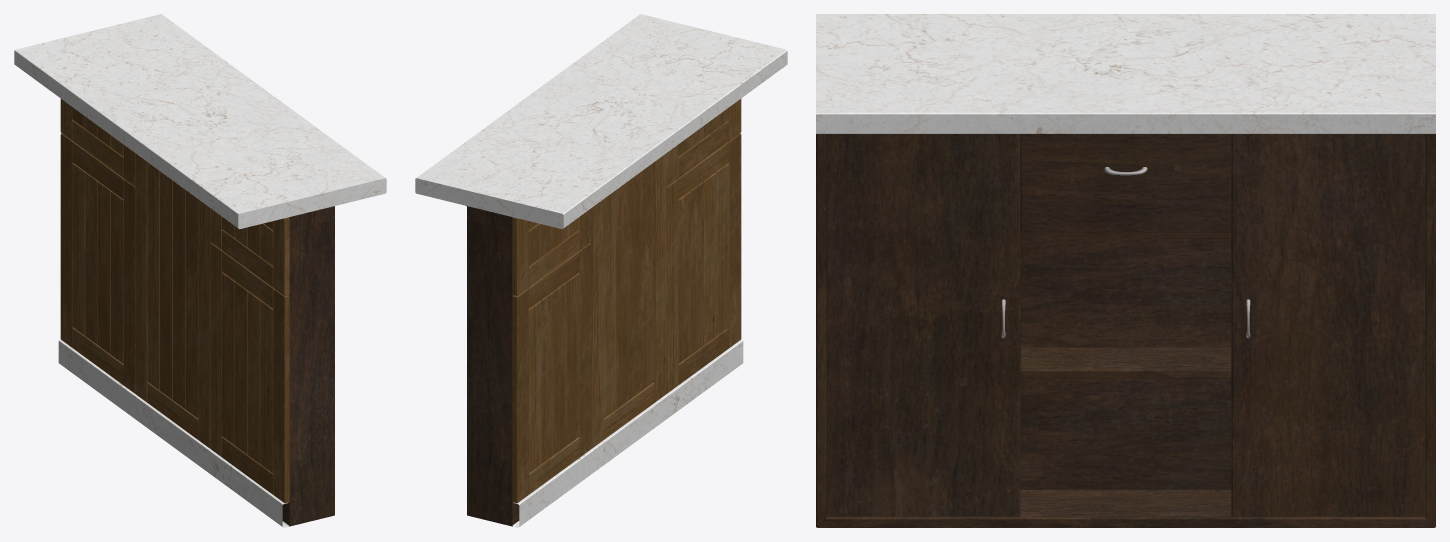
The model's file is SM_CounterTop_01_A.fbx.
The picture shows the model from 3 angles, left to right: view 1: azimuth 30°, elevation 25°; view 2: azimuth 150°, elevation 25°; view 3: azimuth 270°, elevation 25°; orthographic projection. The views are drawn at different scales.
Parts seen in each view (by area): view 1: SM_CounterTop_01_A_LOD0; view 2: SM_CounterTop_01_A_LOD0; view 3: SM_CounterTop_01_A_LOD0.
Boxes of the visible parts, box(x1,y1,x2,y2) form: SM_CounterTop_01_A_LOD0: box(14, 14, 386, 527); SM_CounterTop_01_A_LOD0: box(415, 14, 787, 527); SM_CounterTop_01_A_LOD0: box(816, 14, 1435, 527).
Bounding box in the file's own units: 57.27 × 150 × 120.
